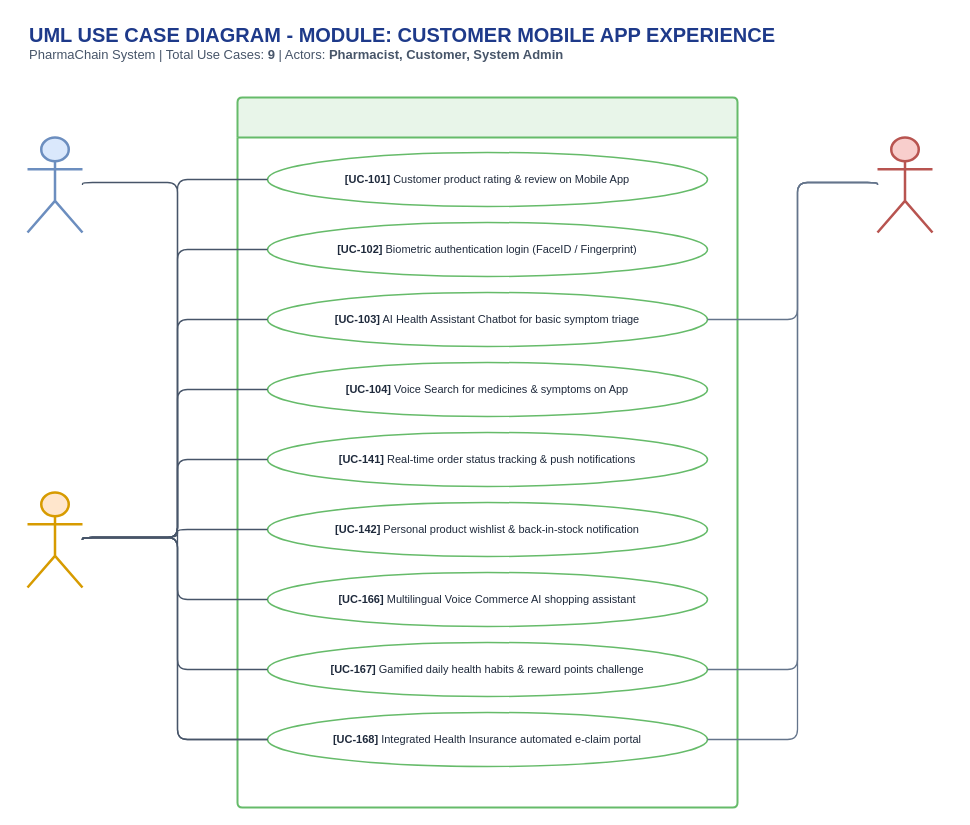
This 970x825 diagram has some shape labels left out. Here are the shapes that lost their labels. From the top down, the box of each, then its label:
(26, 136, 83, 233): Pharmacist (Dược sĩ)
(876, 136, 933, 233): System Admin (Quản trị hệ thống)
(236, 96, 738, 808): CUSTOMER MOBILE APP EXPERIENCE SUBSYSTEM
(26, 491, 83, 588): Customer (Khách hàng)
